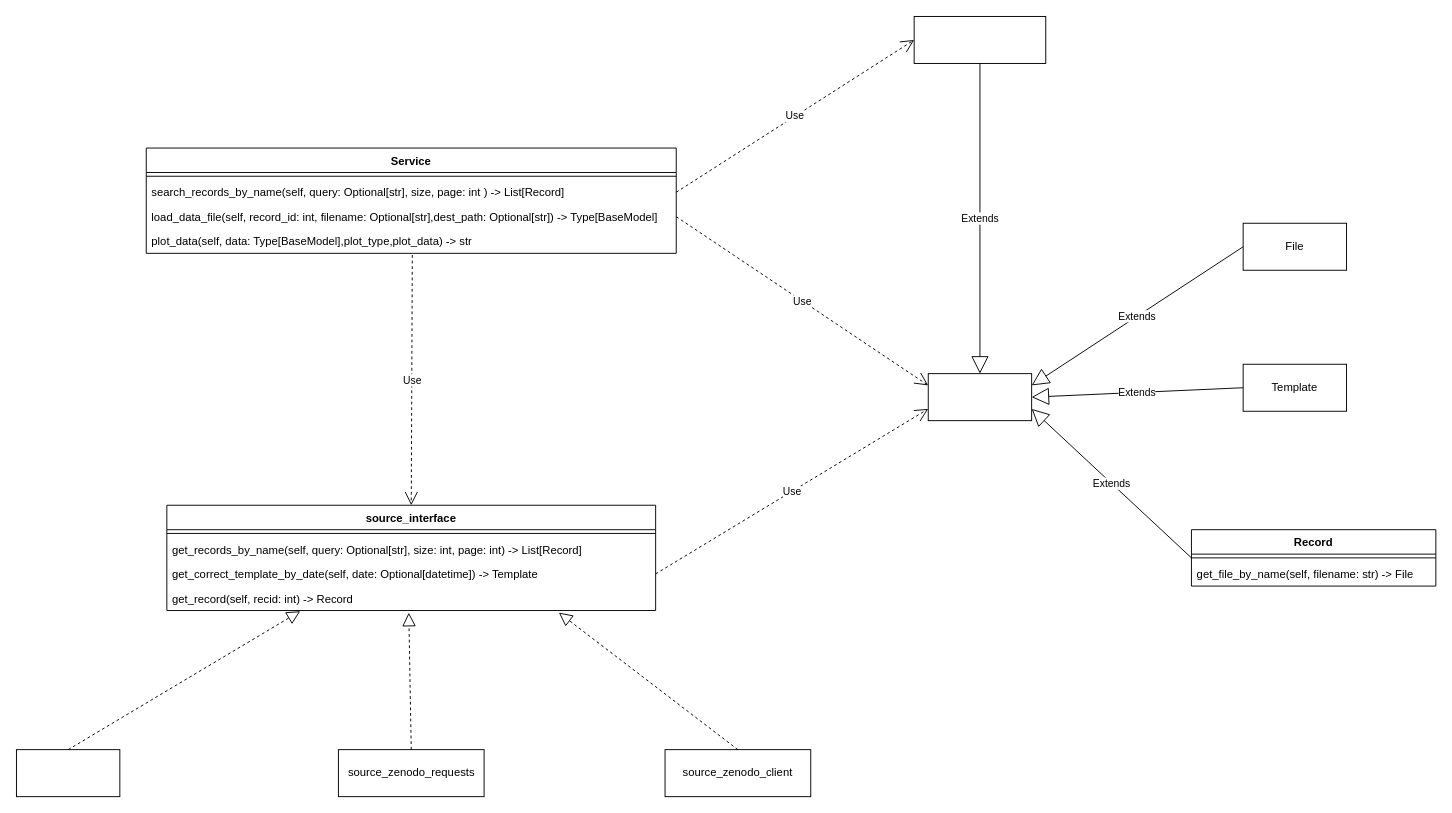
This 1452x813 diagram has some shape labels left out. Here are the shapes that lost their labels. From the top down, the centre of each, then its label:
point (979, 39): DynamicConversor
point (979, 397): BaseModel
point (68, 773): source_file
